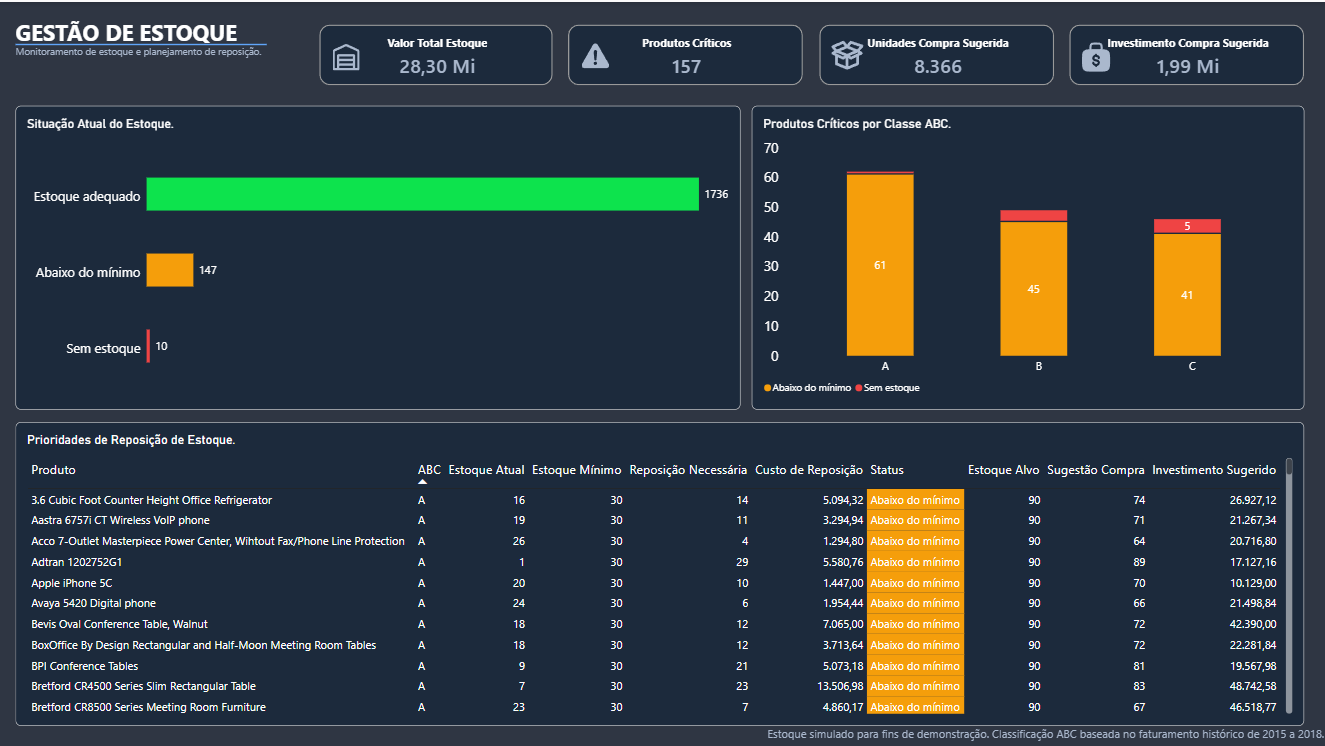

The dashboard page shown, as its layout file describes it:
{"tool":"powerbi","page":{"name":"Gestão de Estoque","canvas":[1920,1080],"ordinal":2},"visuals":[{"type":"textbox","box":[26,22,610,58],"z":0},{"type":"textbox","box":[26,62,424,46],"z":1000},{"type":"shape","box":[25.3,41.6,363.7,39.8],"z":2000},{"type":"cardVisual","fields":{"Data":["Fato_Estoque.Valor Total Estoque"]},"box":[465.1,33,338.4,88.7],"z":4000,"group":"g3"},{"type":"clusteredBarChart","title":"Situação Atual do Estoque.","fields":{"Category":["Fato_Estoque.Status_Estoque"],"Y":["Count(Fato_Estoque.SK_Produto)"]},"box":[25.3,150.2,1049.6,439.7],"z":4000},{"type":"cardVisual","fields":{"Data":["Fato_Estoque.Produtos Críticos"]},"box":[824.6,33,340.2,88.7],"z":5000,"group":"g2"},{"type":"columnChart","title":"Produtos Críticos por Classe ABC.","fields":{"Category":["Dim_Produtos.Classe_ABC"],"Series":["Fato_Estoque.Status_Estoque"],"Y":["Count(Fato_Estoque.SK_Produto)"]},"box":[1091.2,150.2,799.9,439.7],"z":5000},{"type":"cardVisual","fields":{"Data":["Fato_Estoque.Investimento Compra Sugerida"]},"box":[1550.9,33,340.2,88.7],"z":6000,"group":"g1"},{"type":"tableEx","title":"Prioridades de Reposição de Estoque.","fields":{"Values":["Dim_Produtos.Nome_Produto","Dim_Produtos.Classe_ABC","Sum(Fato_Estoque.Estoque_Atual)","Sum(Fato_Estoque.Estoque_Minimo)","Sum(Fato_Estoque.Necessidade_Reposicao)","Sum(Fato_Estoque.Custo_Reposicao_Minima)","Fato_Estoque.Status_Estoque","Sum(Fato_Estoque.Estoque_Alvo)","Sum(Fato_Estoque.Sugestao_Compra)","Sum(Fato_Estoque.Custo_Compra_Sugerida)"]},"box":[25.3,608,1865.8,439.7],"z":6000},{"type":"group","id":"g1","title":"Grupo 3","box":[1550.9,33,340.2,88.7],"z":7000},{"type":"group","id":"g2","title":"Grupo 2","box":[824.6,33,340.2,88.7],"z":9000},{"type":"group","id":"g3","title":"Grupo 1","box":[465.1,33,338.4,88.7],"z":10000},{"type":"cardVisual","fields":{"Data":["Fato_Estoque.Unidades Compra Sugerida"]},"box":[1189.5,33,340.2,88.7],"z":10000,"group":"g4"},{"type":"image","box":[472.3,59.7,63.3,39.8],"z":10001,"group":"g3"},{"type":"image","box":[835.5,58.3,57.9,39.8],"z":10003,"group":"g2"},{"type":"image","box":[1185.9,43.9,88.7,67],"z":10005,"group":"g4"},{"type":"group","id":"g4","title":"Grupo 4","box":[1185.9,33,343.8,88.7],"z":10006},{"type":"image","box":[1550.9,56.5,77.8,48.9],"z":10007,"group":"g1"},{"type":"textbox","box":[915.7,1047.8,1004.4,32.6],"z":10007}]}

Visuals, with their boxes in screenshot pixels (x1, y1, x2, y2), scaled from the page's 1920x1080 canvas onto the 1325x746 screenshot:
textbox: pyautogui.locateOnScreen(18, 15, 439, 55)
textbox: pyautogui.locateOnScreen(18, 43, 311, 75)
shape: pyautogui.locateOnScreen(17, 29, 268, 56)
cardVisual - Fato_Estoque.Valor Total Estoque: pyautogui.locateOnScreen(321, 23, 554, 84)
"Situação Atual do Estoque." clusteredBarChart: pyautogui.locateOnScreen(17, 104, 742, 407)
cardVisual - Fato_Estoque.Produtos Críticos: pyautogui.locateOnScreen(569, 23, 804, 84)
"Produtos Críticos por Classe ABC." columnChart: pyautogui.locateOnScreen(753, 104, 1305, 407)
cardVisual - Fato_Estoque.Investimento Compra Sugerida: pyautogui.locateOnScreen(1070, 23, 1305, 84)
"Prioridades de Reposição de Estoque." tableEx: pyautogui.locateOnScreen(17, 420, 1305, 724)
"Grupo 3" group: pyautogui.locateOnScreen(1070, 23, 1305, 84)
"Grupo 2" group: pyautogui.locateOnScreen(569, 23, 804, 84)
"Grupo 1" group: pyautogui.locateOnScreen(321, 23, 554, 84)
cardVisual - Fato_Estoque.Unidades Compra Sugerida: pyautogui.locateOnScreen(821, 23, 1056, 84)
image: pyautogui.locateOnScreen(326, 41, 370, 69)
image: pyautogui.locateOnScreen(577, 40, 617, 68)
image: pyautogui.locateOnScreen(818, 30, 880, 77)
"Grupo 4" group: pyautogui.locateOnScreen(818, 23, 1056, 84)
image: pyautogui.locateOnScreen(1070, 39, 1124, 73)
textbox: pyautogui.locateOnScreen(632, 724, 1324, 745)
